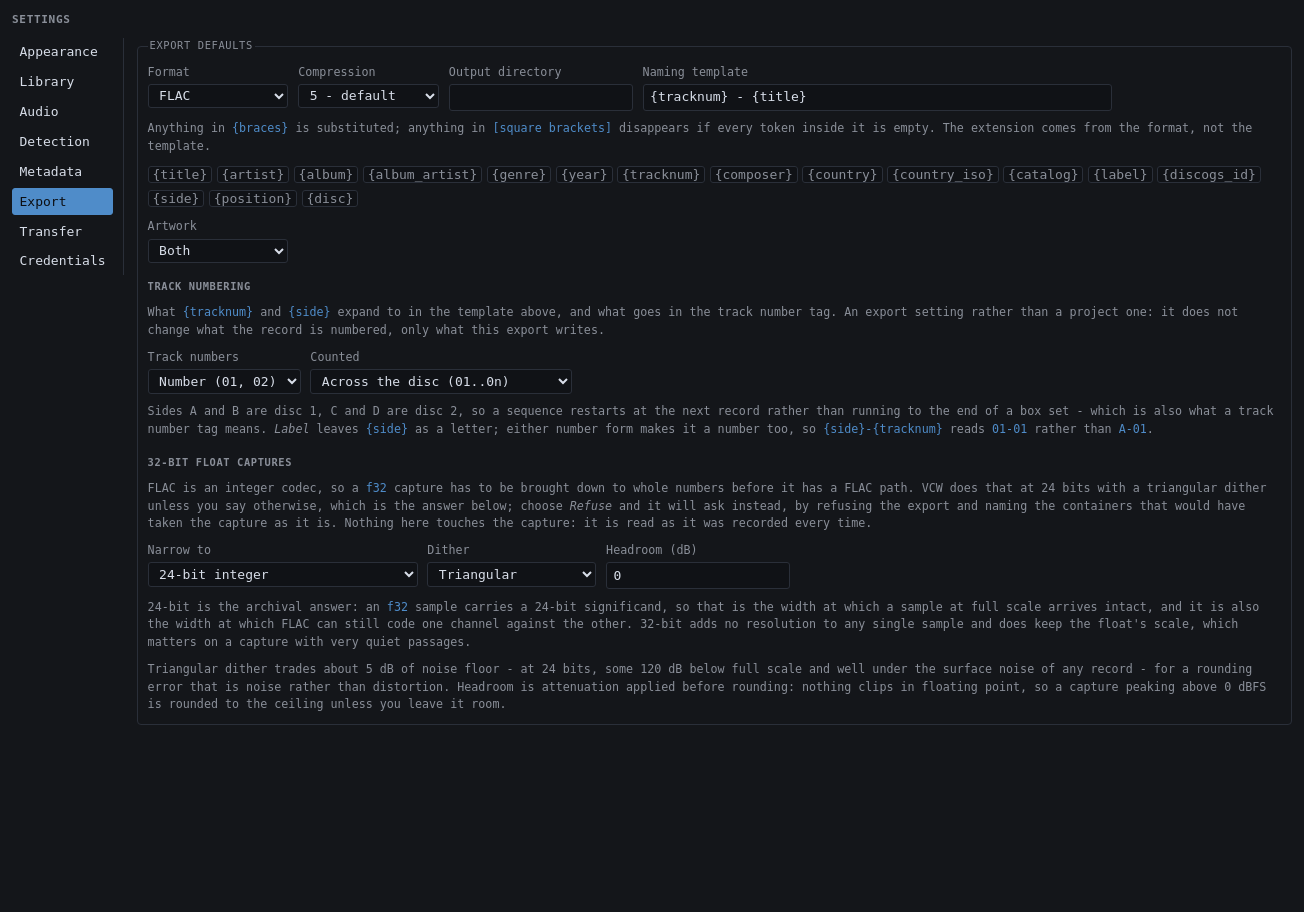
it: the export numbering controls › writes one word from two controls, and Label disables the second
Expected: the dropdown labelled "Counted" shows "Across the disc (01..0n)", [310,369,572,394]
Expected: the dropdown labelled "Counted" is enabled, [310,369,572,394]
Select "Label (A1, B2)" in the dropdown labelled "Track numbers" at coordinates (224, 381), box [148,369,301,394]
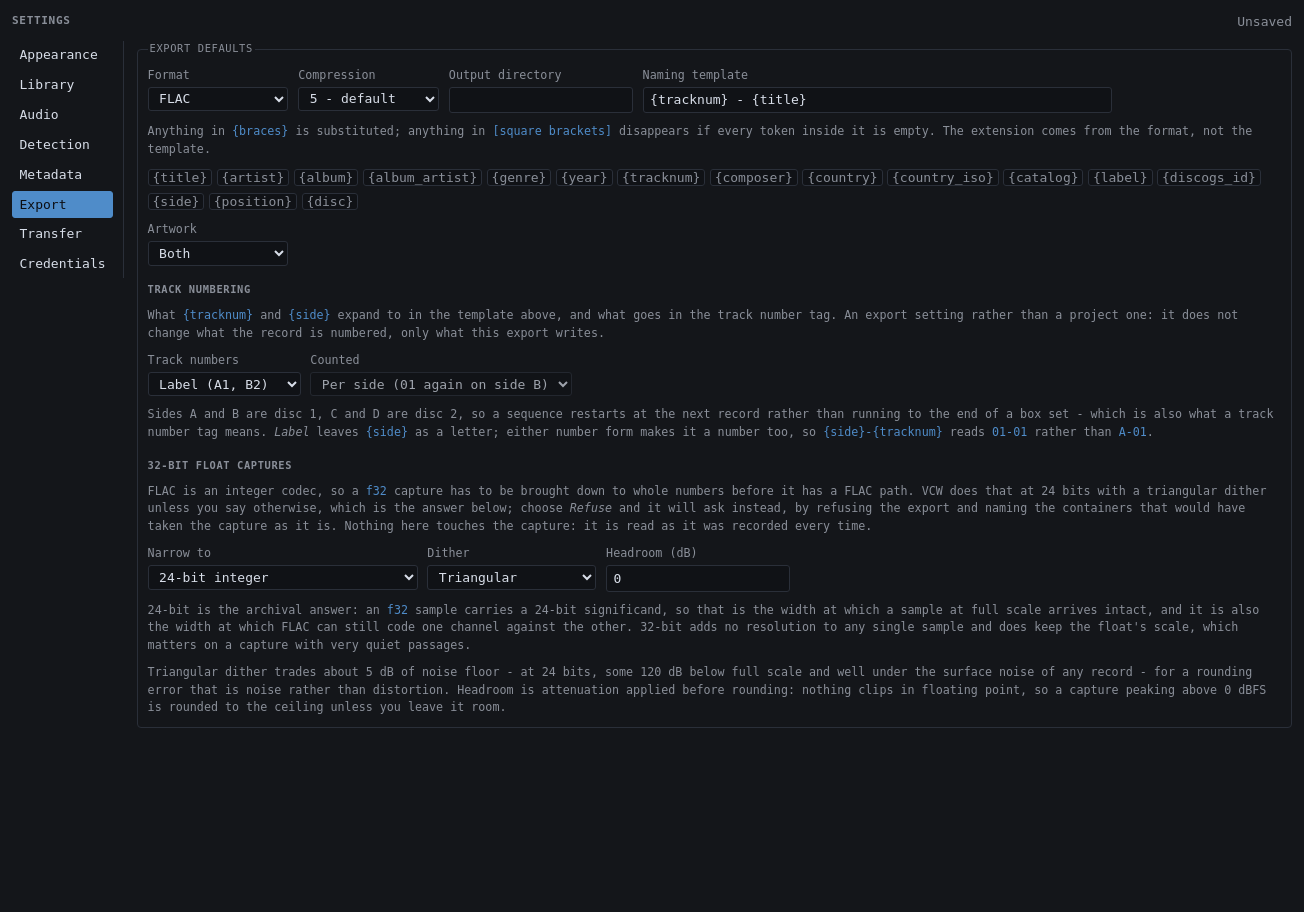
Expected: the dropdown labelled "Counted" is disabled, [310,372,572,396]
